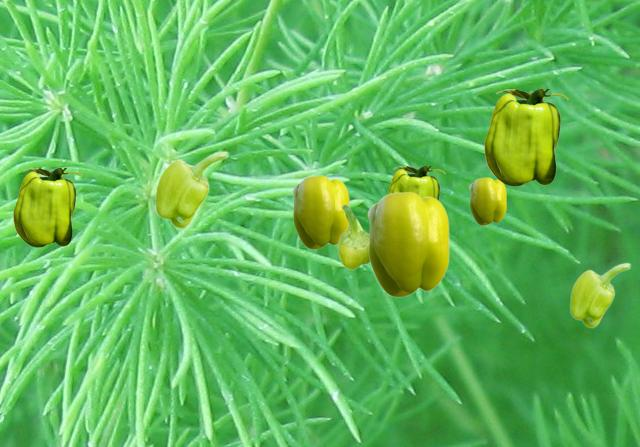bell_pepper: (367, 191, 448, 296), (484, 89, 567, 185), (154, 150, 228, 228), (13, 168, 81, 246), (292, 175, 348, 248), (569, 262, 630, 327), (337, 204, 369, 269), (387, 166, 444, 199), (469, 177, 505, 224)
